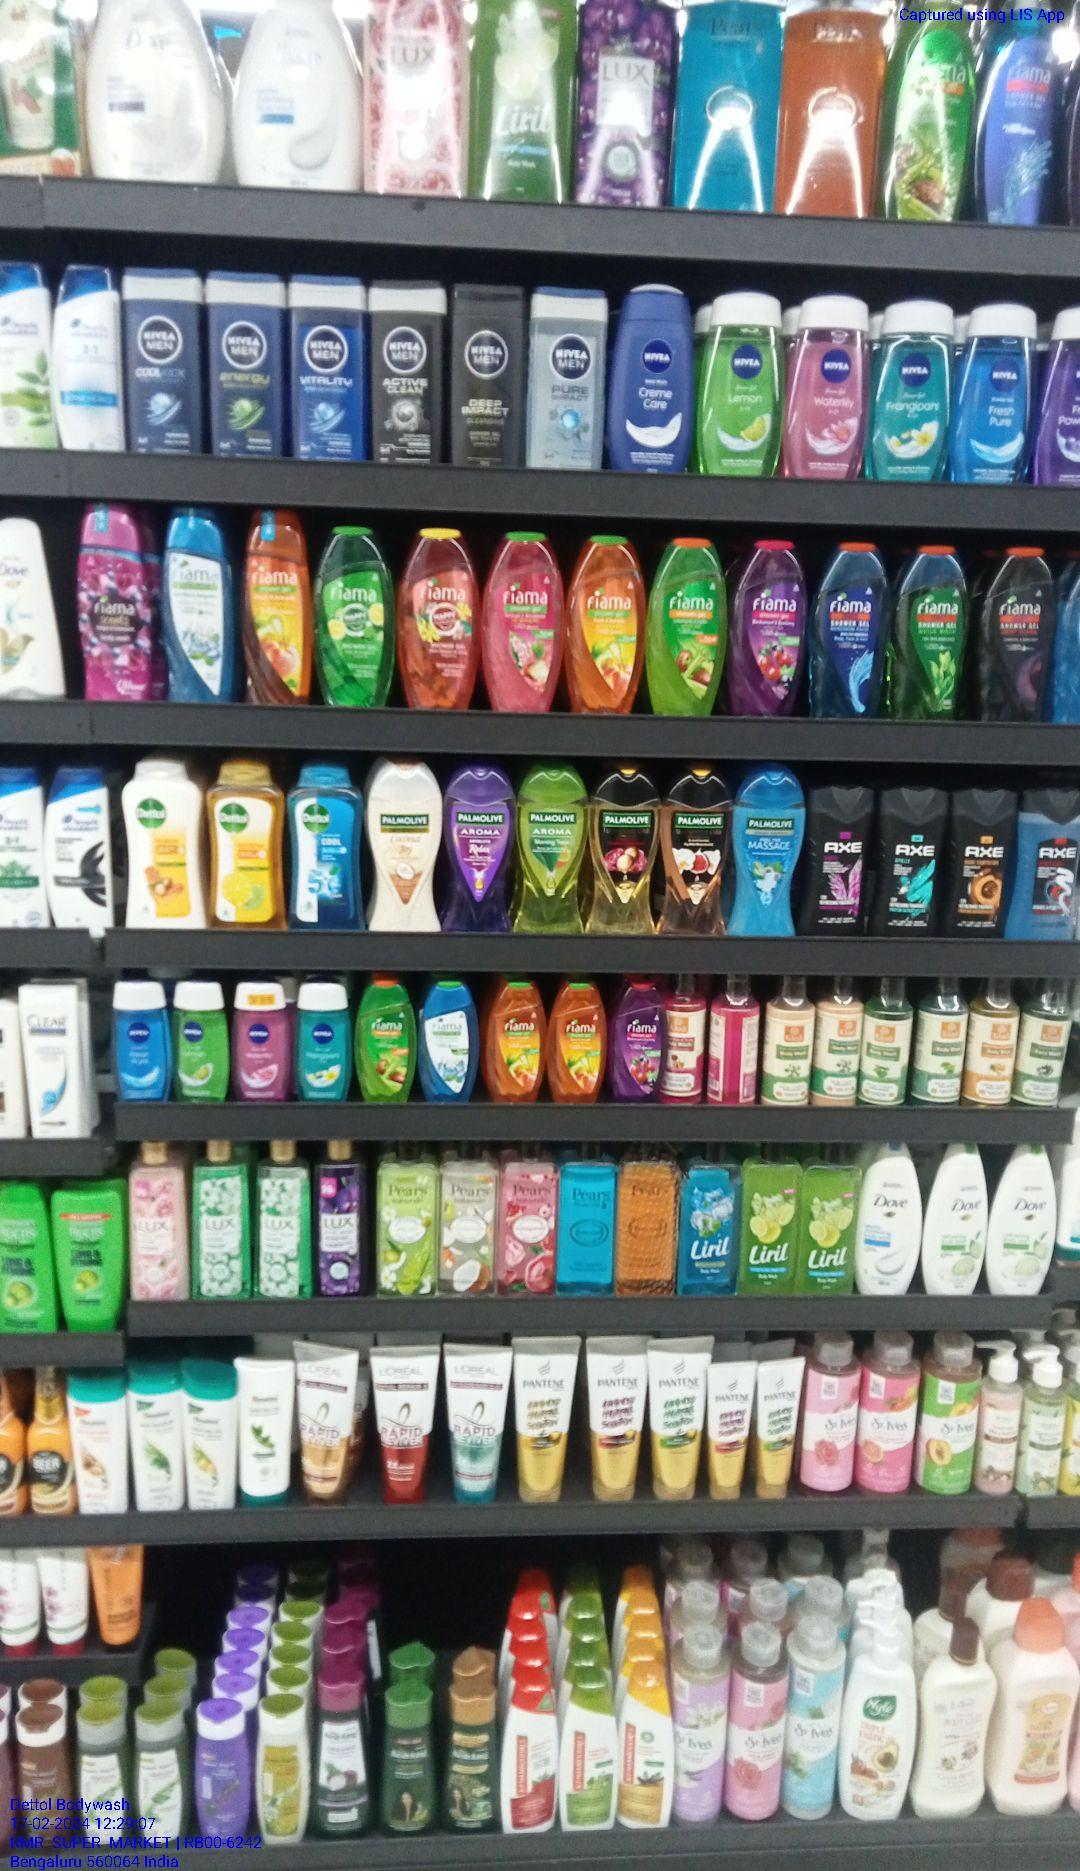Dettol_Bodywash_Cool: (287, 767, 364, 929)
Dettol_Bodywash_Refresh: (210, 767, 283, 932)
Dettol_Nourish_Body_Wash_250ML: (121, 759, 204, 928)
Dove_Gentle_Exfoliating_Body_Wash_250ML: (861, 1142, 922, 1294)
Dove_Refreshing_Body_Wash_250ML: (987, 1146, 1062, 1295), (926, 1145, 987, 1294)
Fiama_Shower_Gel_Lemongrass_and_Jojoba_250ML: (648, 540, 729, 714), (359, 978, 414, 1101)
Fiama_Shower_Gel_Patchouli_and_Macadamia_250ML: (483, 533, 564, 708)
Fiama_Shower_Gel_Peach_and_Avocado_250ML: (571, 533, 644, 711), (548, 982, 607, 1103), (486, 983, 543, 1101)
Liril_Cooling_Mint_Body_Wash_250ML: (684, 1146, 734, 1294)
Liril_Lime_and_Tea_Tree_Oil_Body_Wash_250ML: (741, 1142, 800, 1297), (804, 1142, 855, 1295)
Lux_Black_Orchid_Scent_and_Juniper_Oil_Body_Wash_245ML: (312, 1141, 366, 1294)
Lux_Body_Wash_Skin_Detox_Freesia_Scent_and_Alove_Vera_245ML: (192, 1140, 253, 1300), (256, 1141, 309, 1302)
Nivea_Shower_Gel_Frangipani_and_Oil_250ML: (873, 296, 949, 479), (296, 979, 348, 1101)
Nivea_Shower_Gel_Lemon_and_Oil_250ML: (699, 294, 780, 486), (176, 979, 229, 1104)
Nivea_Shower_Gel_Waterlily_and_Oil_250ML: (788, 296, 864, 477), (235, 983, 287, 1100)
Palmolive_Aroma_Moments_Feel_The_Massage_Shower_Gel_250ML: (735, 771, 804, 936)
Palmolive_Aroma_Morning_Tonic_Shower_Gel_250ML: (518, 767, 586, 937)
Palmolive_Aroma_Relax_250ML: (449, 763, 510, 933)
Palmolive_Coconut_Joy_Exfoliating_Body_Wash_250ML: (368, 759, 440, 930)
Palmolive_Luminous_Oils_Invigorating_Macadamia_Oil_With_Peony_250ML: (594, 768, 657, 938)
Palmolive_Luminous_Oils_With_White_Orchid_Shower_Gel_250ML: (661, 768, 730, 936)
Pears_Naturale_Aloe_Vera_Body_Wash_250ML: (377, 1144, 435, 1298)
Pears_Pure_Glycerin_and_Mint_Extracts_Body_Wash_250ML: (555, 1142, 613, 1298)
